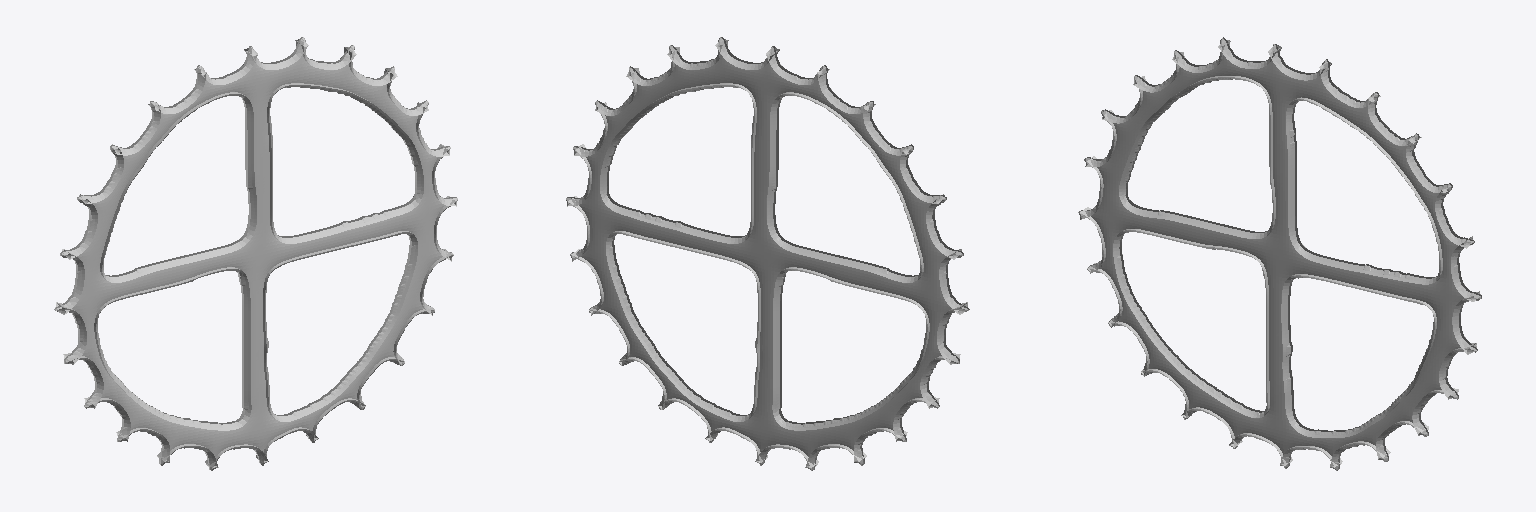
File: Sobtool 3.OBJ
The picture shows the model from 3 angles: view 1: azimuth 30°, elevation 25°; view 2: azimuth 150°, elevation 25°; view 3: azimuth 330°, elevation 25°; orthographic projection.
Parts seen in each view (by area): view 1: Group17080, Group17070; view 2: Group17080, Group17070; view 3: Group17080, Group17070.
Boxes of the visible parts, box(x1,y1,x2,y2) form: Group17080: box(54, 37, 457, 470); Group17070: box(56, 39, 456, 468); Group17080: box(566, 37, 969, 470); Group17070: box(567, 39, 967, 468); Group17080: box(1078, 37, 1481, 470); Group17070: box(1080, 40, 1479, 467).
Size of the model in its own units: 1.89 by 1.89 by 0.0692.